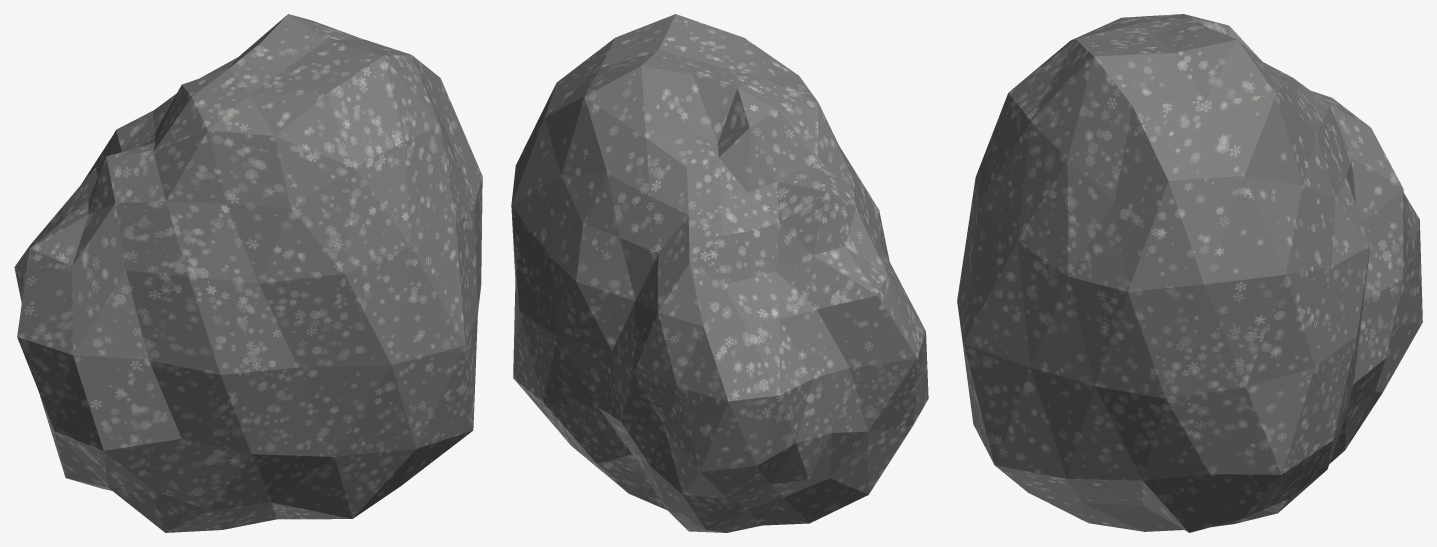
Rendered from Rock_Tall.obj.
3 views of the same model, side by side, from view 1: azimuth 30°, elevation 25°; view 2: azimuth 150°, elevation 25°; view 3: azimuth 270°, elevation 25° (orthographic). The views are drawn at different scales.
Parts seen in each view (by area): view 1: Rock_Tall; view 2: Rock_Tall; view 3: Rock_Tall.
Part boxes in pixels (x1=…): Rock_Tall: x1=14, y1=14, x2=482, y2=532; Rock_Tall: x1=511, y1=14, x2=928, y2=532; Rock_Tall: x1=957, y1=14, x2=1422, y2=532.
Size of the model in its own units: 3.5 by 3.5 by 3.
1 material, 1 textured.
